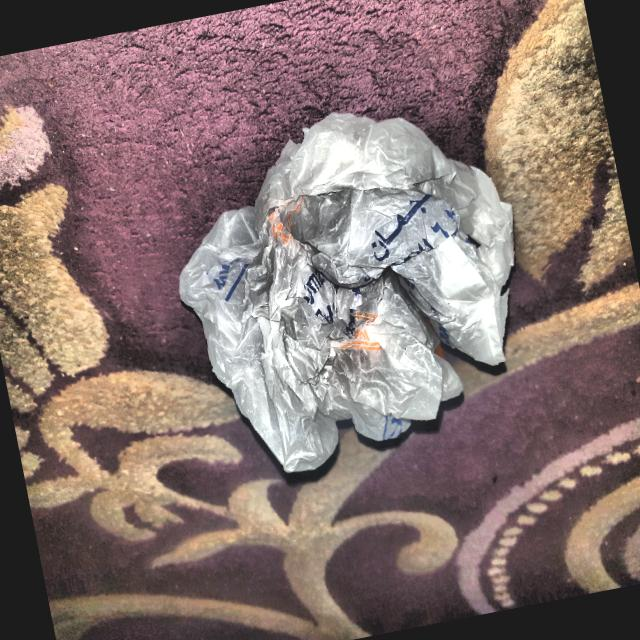plastic bag: (138, 72, 564, 504)
